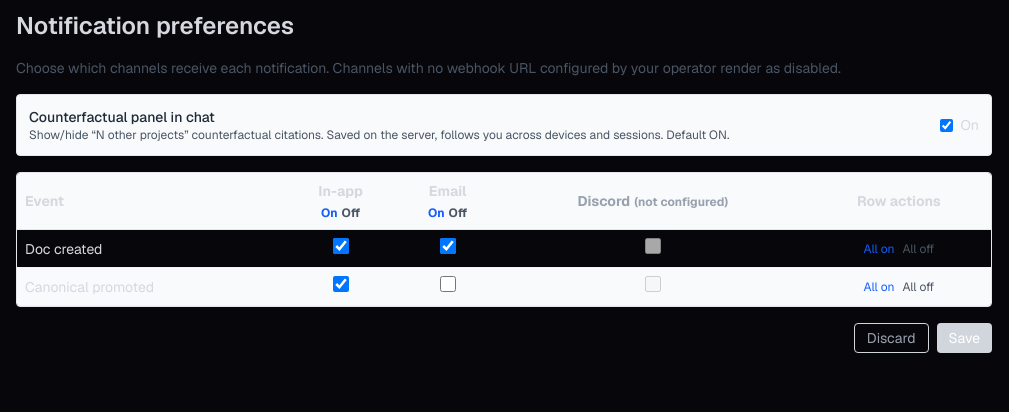
Test case: NotificationPreferencesGrid › counterfactual toggle surfaces an error banner when PATCH fails (R14)
The width and height of the screenshot is (1009, 412).
Click the checkbox with test id "chat-counterfactual-toggle": (946, 125) [940,118,952,132]
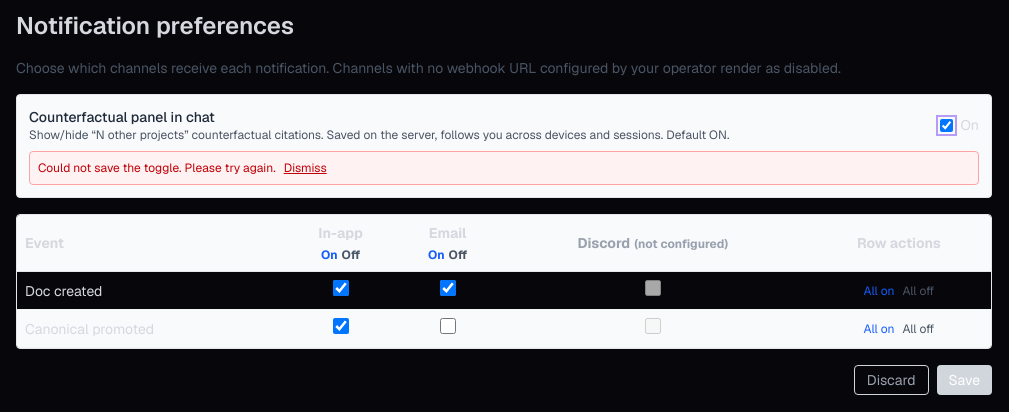
Now the message "Could not save the toggle. Please try again. Dismiss" is shown, box [29,151,979,185]
